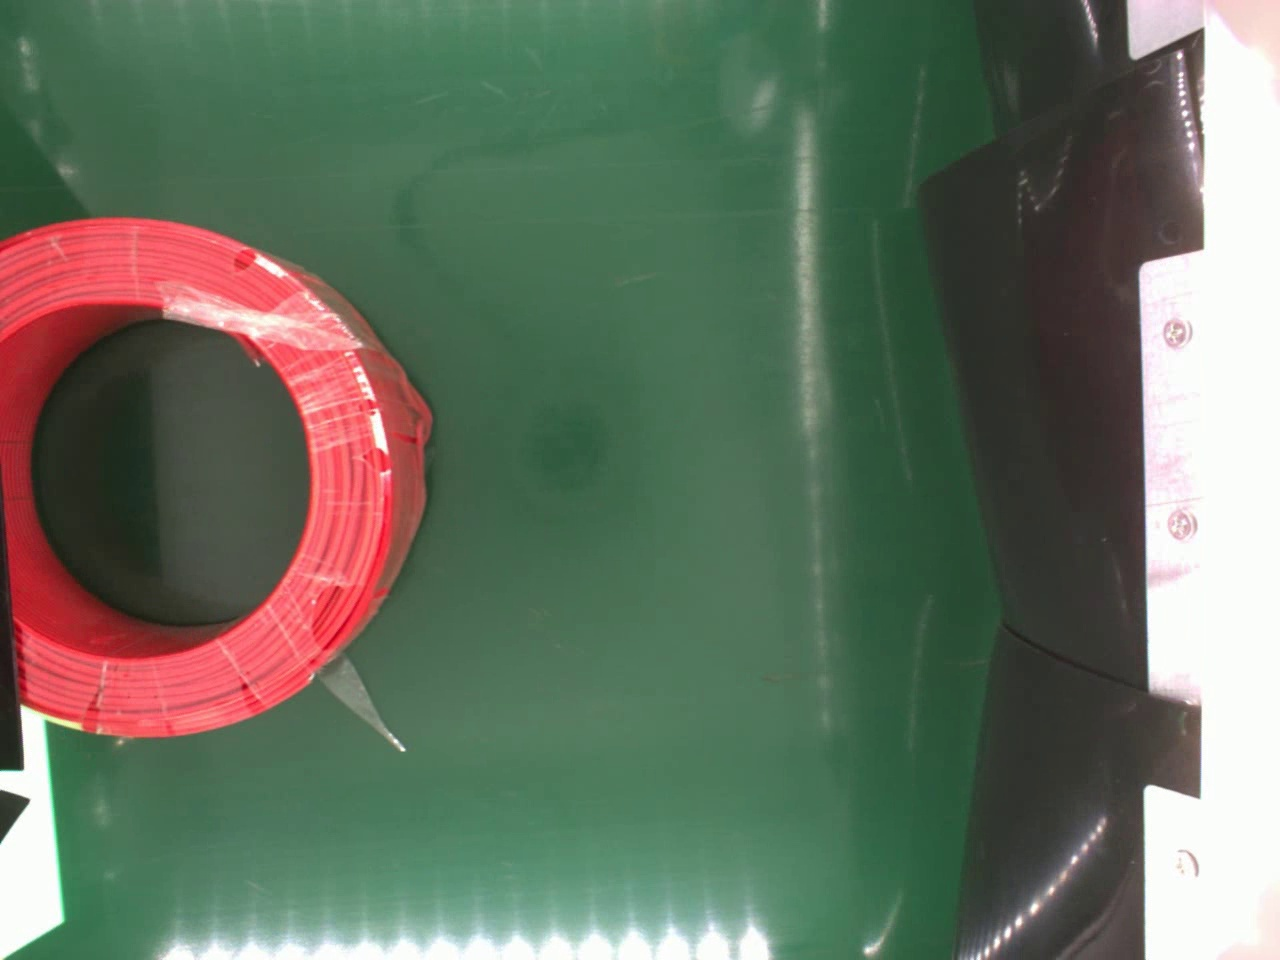red: (0, 216, 430, 743)
